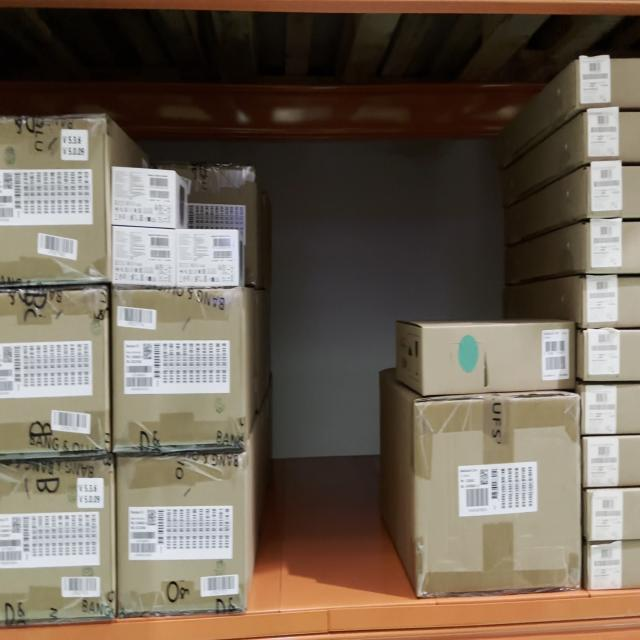box: (417, 398, 580, 596), (114, 290, 242, 448), (118, 458, 246, 610), (423, 329, 575, 388), (178, 230, 238, 287), (113, 172, 176, 224), (113, 231, 176, 283)
